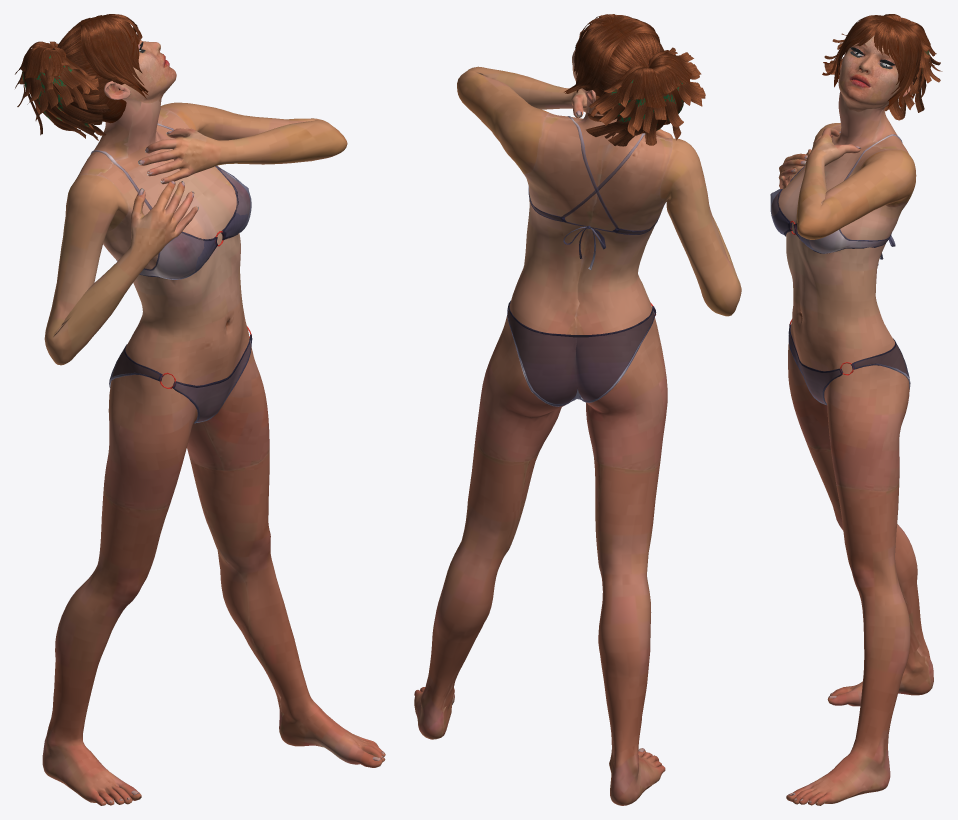
File: girl_bikini.glb
The picture shows the model from 3 angles, left to right: view 1: azimuth 30°, elevation 25°; view 2: azimuth 150°, elevation 25°; view 3: azimuth 270°, elevation 25°; orthographic projection. The views are drawn at different scales.
Parts seen in each view (by area): view 1: Mesh1_M_3_Toenail_1_0, Mesh1_M_2_SkinNeck_1_0, Mesh1_bang_1_0, Mesh1_Material__2_0, Mesh1_M_1_Nostril_1_0; view 2: Mesh1_M_2_SkinNeck_1_0, Mesh1_M_3_Toenail_1_0, Mesh1_bang_1_0, Mesh1_Material__2_0; view 3: Mesh1_M_2_SkinNeck_1_0, Mesh1_M_3_Toenail_1_0, Mesh1_bang_1_0, Mesh1_Material__2_0, Mesh1_M_1_Nostril_1_0.
Boxes of the visible parts, x1=… form: Mesh1_M_3_Toenail_1_0: x1=42, y1=102, x2=385, y2=805; Mesh1_M_2_SkinNeck_1_0: x1=77, y1=81, x2=269, y2=510; Mesh1_bang_1_0: x1=15, y1=14, x2=148, y2=140; Mesh1_Material__2_0: x1=90, y1=123, x2=252, y2=423; Mesh1_M_1_Nostril_1_0: x1=120, y1=40, x2=176, y2=103; Mesh1_M_2_SkinNeck_1_0: x1=475, y1=90, x2=672, y2=470; Mesh1_M_3_Toenail_1_0: x1=414, y1=66, x2=741, y2=805; Mesh1_bang_1_0: x1=564, y1=14, x2=705, y2=146; Mesh1_Material__2_0: x1=507, y1=116, x2=665, y2=406; Mesh1_M_2_SkinNeck_1_0: x1=772, y1=54, x2=913, y2=491; Mesh1_M_3_Toenail_1_0: x1=778, y1=123, x2=933, y2=805; Mesh1_bang_1_0: x1=822, y1=14, x2=942, y2=120; Mesh1_Material__2_0: x1=770, y1=131, x2=910, y2=404; Mesh1_M_1_Nostril_1_0: x1=838, y1=35, x2=899, y2=112.
Size of the model in its own units: 203 by 456 by 104.
13 materials, 7 textured.
